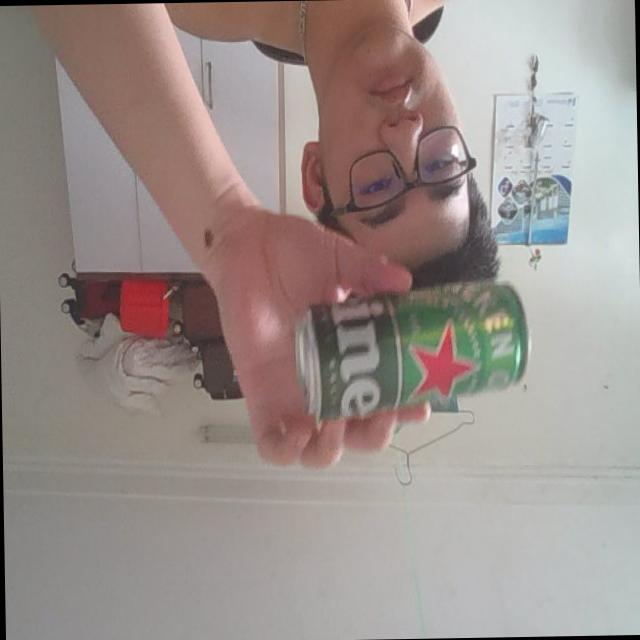Heineken: (302, 279, 532, 419)
